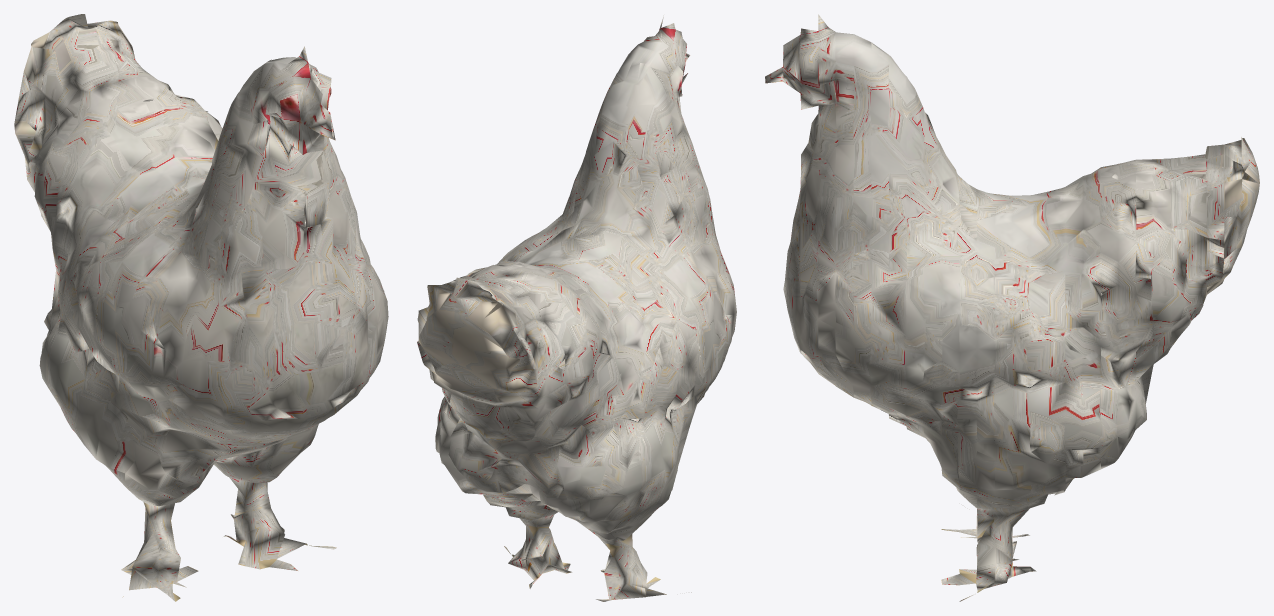
Rendered from gallina.glb.
3 views of the same model, side by side, from view 1: azimuth 30°, elevation 25°; view 2: azimuth 150°, elevation 25°; view 3: azimuth 270°, elevation 25° (orthographic). The views are drawn at different scales.
Size of the model in its own units: 0.844 by 1.9 by 1.57.
1 material, 1 textured.
